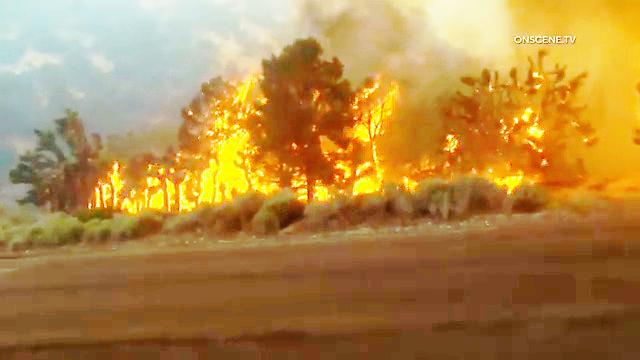fire: (199, 79, 251, 202), (352, 89, 394, 149), (137, 170, 175, 217), (351, 172, 397, 207), (489, 159, 529, 199), (91, 176, 131, 215)
smoke: (299, 2, 445, 76)
